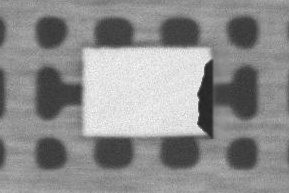DIE_BROKEN: (195, 54, 215, 138)
